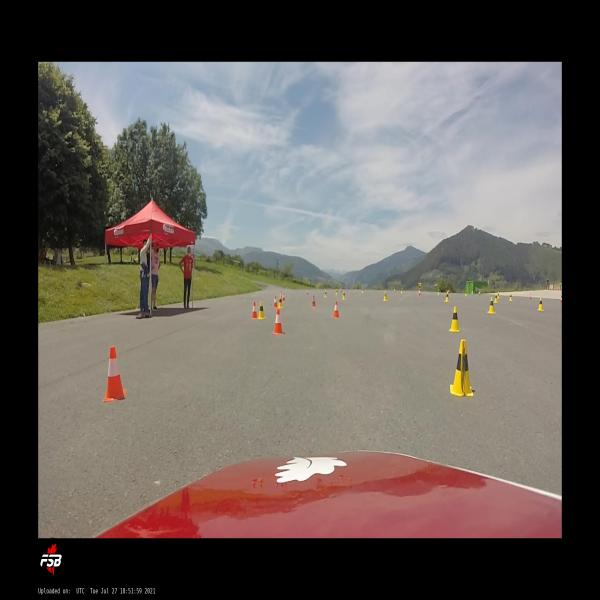orange_cone: (104, 347, 126, 402), (272, 308, 284, 335), (332, 300, 340, 318), (251, 302, 258, 318), (273, 295, 278, 308), (312, 295, 316, 307), (282, 292, 285, 301), (418, 289, 421, 297), (529, 292, 532, 300), (559, 296, 562, 304), (478, 290, 481, 296), (306, 289, 309, 295), (394, 288, 396, 294)
yellow_cone: (450, 340, 475, 398), (448, 306, 460, 332), (258, 301, 266, 319), (487, 296, 495, 314), (537, 298, 544, 312), (278, 296, 283, 308), (444, 292, 450, 302), (342, 291, 346, 301), (494, 294, 498, 303), (446, 289, 450, 297), (384, 292, 387, 301), (509, 293, 512, 302), (324, 290, 327, 298), (497, 292, 500, 299), (400, 287, 403, 294), (335, 289, 338, 295), (437, 289, 440, 295), (465, 289, 467, 296), (362, 288, 364, 294)
